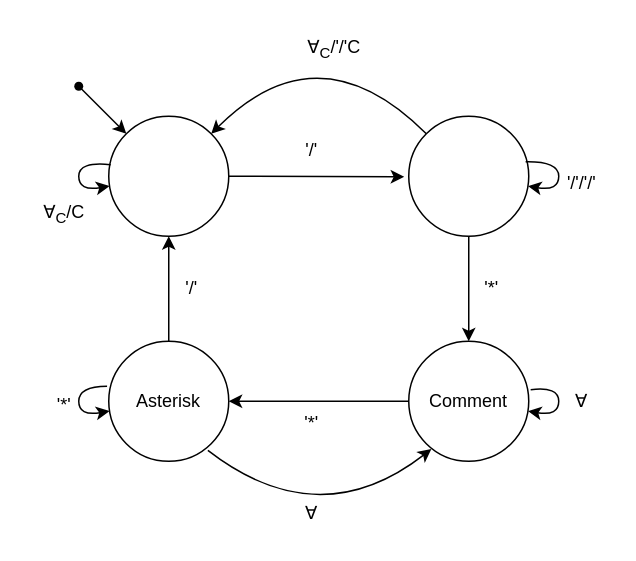
Image size: 636x561. Some labels were removed from this diagram. Each missing label, with the centre of its shape:
"Awaiting" goes at (x=168, y=175).
"Slash" goes at (x=468, y=175).
